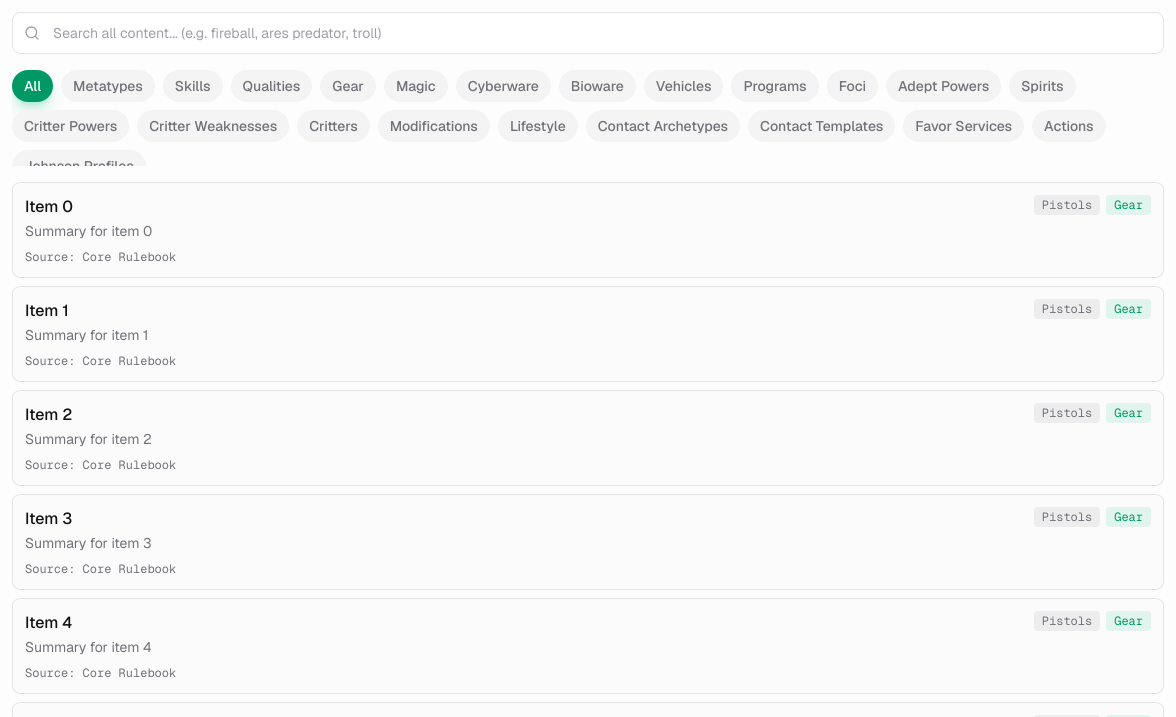
Test: ContentPreview › resets items when category changes
This screenshot has width=1176, height=717.
expect the heading "Item 0" is shown: met, box x1=25 y1=196 x2=73 y2=217
Click the button "Magic".
click(416, 86)  # box x1=384 y1=70 x2=448 y2=102
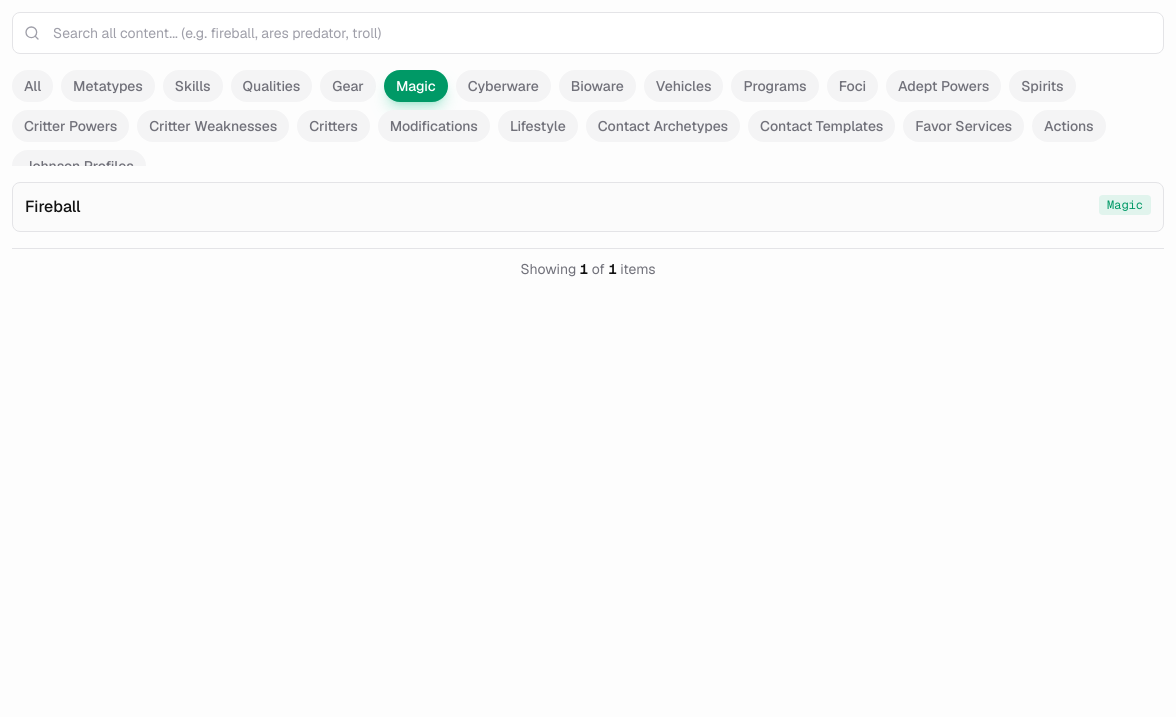
expect the heading "Fireball" is shown: met, box x1=25 y1=195 x2=81 y2=219
expect the heading "Item 0" is gone: met
